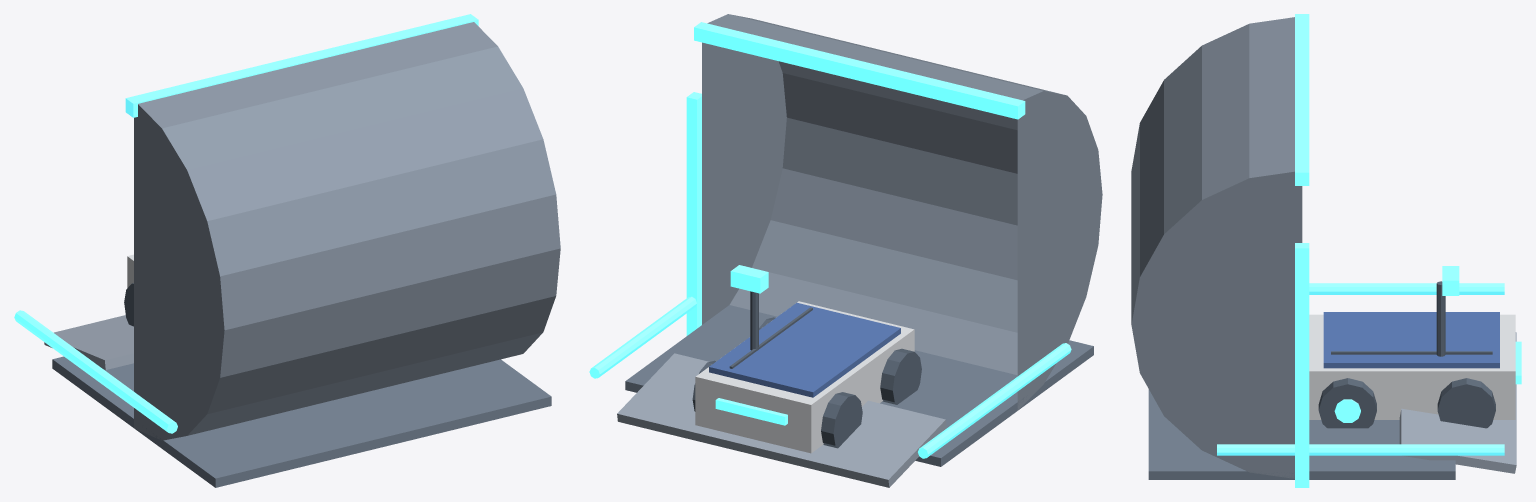
The model's file is rover_garage.glb.
3 renders of one model, left to right at view 1: azimuth 30°, elevation 25°; view 2: azimuth 150°, elevation 25°; view 3: azimuth 270°, elevation 25°, orthographic. The views are drawn at different scales.
Parts seen in each view (by area): view 1: garage_shell, garage_floor, entrance_lip, garage_ramp, garage_side_rail_-0.78; view 2: garage_shell, garage_ramp, garage_floor, rover_solar_lid, rover_body, entrance_lip, entrance_side_lip, garage_side_rail_-0.78, wheel_-1_0.7, wheel_-1_-0.6, garage_side_rail_0.78, rover_accent (+1 smaller); view 3: garage_shell, garage_floor, rover_solar_lid, rover_body, garage_ramp, entrance_side_lip, garage_side_rail_0.78, entrance_lip, wheel_1_-0.6, garage_side_rail_-0.78, wheel_1_0.7, rover_mast (+3 smaller).
Part boxes in pixels (box(x1,y1,x2,y2)): garage_shell: box(134, 22, 560, 440); garage_floor: box(52, 356, 551, 487); entrance_lip: box(125, 14, 478, 117); garage_ramp: box(44, 315, 133, 369); garage_side_rail_-0.78: box(14, 310, 177, 433); garage_shell: box(702, 14, 1102, 410); garage_ramp: box(617, 353, 946, 487); garage_floor: box(625, 305, 1093, 466); rover_solar_lid: box(709, 302, 900, 397); rover_body: box(695, 301, 914, 453); entrance_lip: box(694, 22, 1025, 119); entrance_side_lip: box(686, 92, 701, 335); garage_side_rail_-0.78: box(918, 343, 1071, 458); wheel_-1_0.7: box(880, 348, 921, 404); wheel_-1_-0.6: box(821, 392, 862, 448); garage_side_rail_0.78: box(589, 296, 696, 378); rover_accent: box(715, 398, 787, 425); garage_shell: box(1131, 17, 1302, 478); garage_floor: box(1148, 389, 1455, 479); rover_solar_lid: box(1323, 312, 1499, 368); rover_body: box(1309, 314, 1515, 419); garage_ramp: box(1399, 332, 1516, 473); entrance_side_lip: box(1295, 243, 1309, 487); garage_side_rail_0.78: box(1217, 444, 1504, 455); entrance_lip: box(1295, 14, 1309, 185); wheel_1_-0.6: box(1437, 378, 1495, 428); garage_side_rail_-0.78: box(1309, 283, 1504, 294); wheel_1_0.7: box(1318, 378, 1376, 428); rover_mast: box(1436, 281, 1445, 356).
Bounding box in the file's own units: 1.61 × 1.42 × 1.6.
